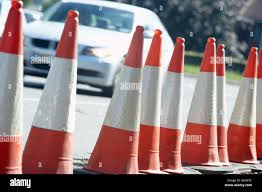car: (19, 1, 178, 95)
cone: (84, 27, 144, 173), (27, 11, 79, 177), (181, 37, 216, 164), (1, 2, 25, 173), (226, 48, 258, 161), (139, 31, 163, 170), (160, 34, 182, 168), (211, 43, 226, 165)
